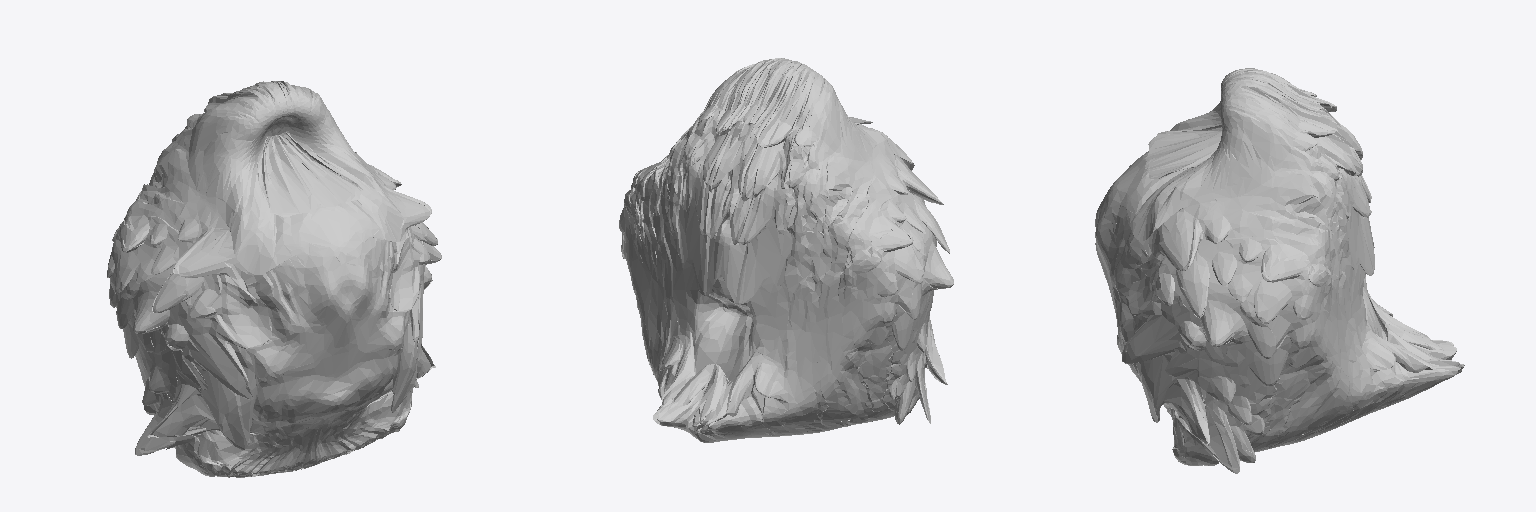
Rendered from archan.obj.
3 renders of one model, left to right at view 1: azimuth 30°, elevation 25°; view 2: azimuth 150°, elevation 25°; view 3: azimuth 270°, elevation 25°, orthographic.
Parts seen in each view (by area): view 1: Group20872.001; view 2: Group20872.001; view 3: Group20872.001.
Part boxes in pixels (x1,y1,x2,y2): Group20872.001: (107, 81, 441, 477); Group20872.001: (619, 58, 953, 442); Group20872.001: (1095, 68, 1464, 473).
Bounding box in the file's own units: 2.31 × 2.62 × 2.4.